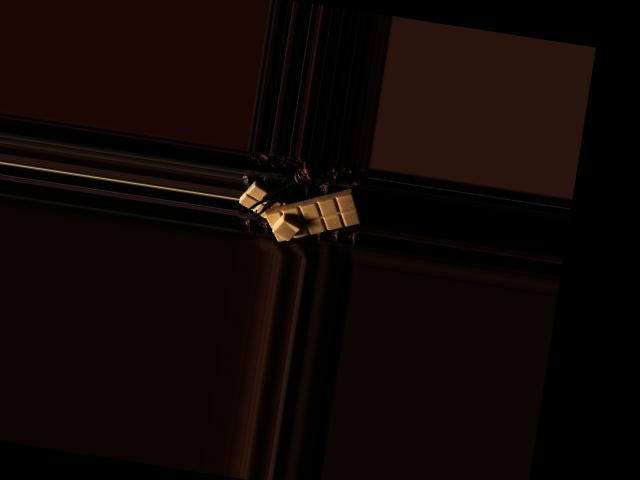chocolate: (258, 177, 363, 252)
